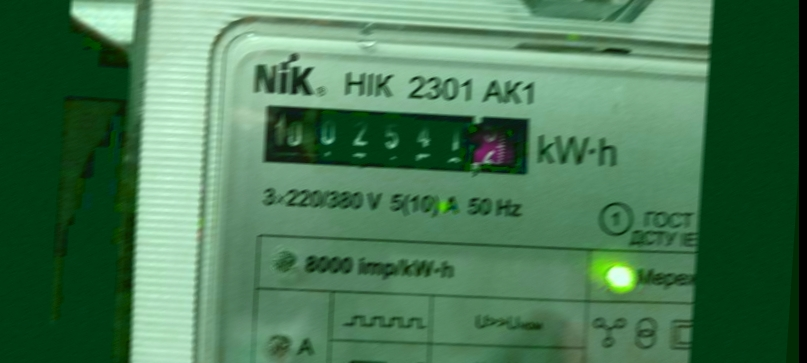0: (317, 114, 339, 148), (286, 118, 305, 148)
1: (445, 119, 463, 153)
2: (348, 115, 372, 150)
4: (414, 118, 433, 150)
5: (382, 119, 400, 152)
6: (479, 146, 497, 168)
screen: (247, 87, 553, 196)
